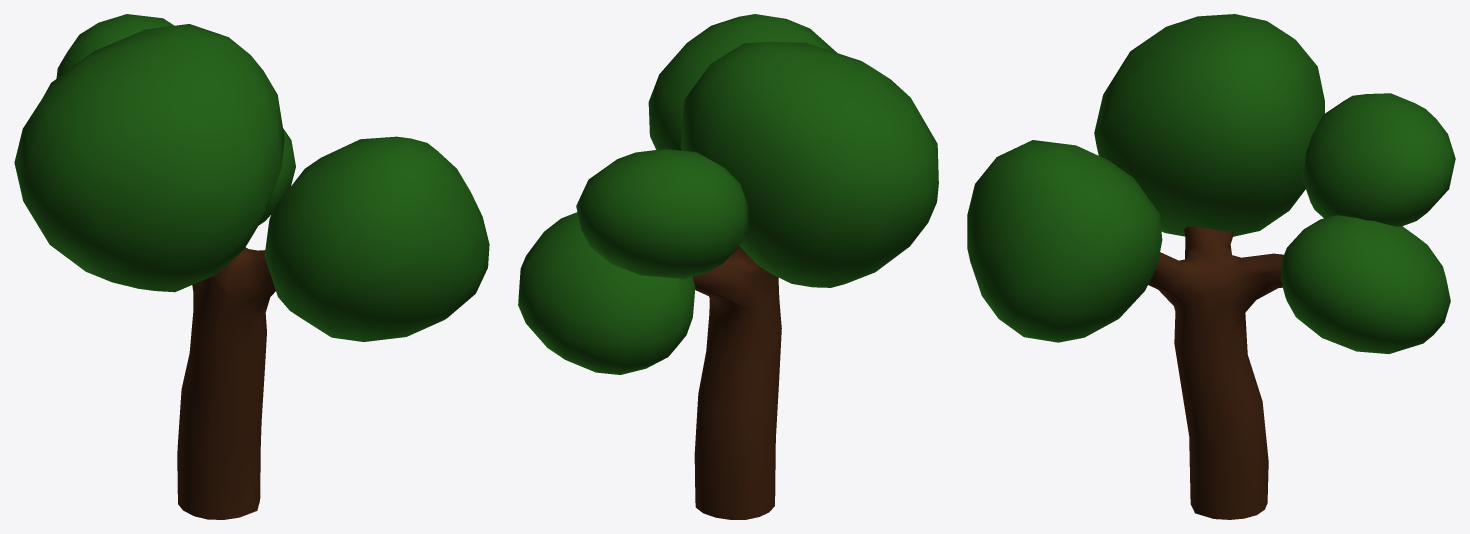
Rendered from Tree3.fbx.
3 views of the same model, side by side, from view 1: azimuth 30°, elevation 25°; view 2: azimuth 150°, elevation 25°; view 3: azimuth 270°, elevation 25° (orthographic). The views are drawn at different scales.
Parts seen in each view (by area): view 1: Sphere.008, Sphere.005, Trunk3, Sphere.009, Sphere.010; view 2: Sphere.008, Trunk3, Sphere.010, Sphere.009, Sphere.005; view 3: Sphere.008, Sphere.005, Trunk3, Sphere.010, Sphere.009.
Part boxes in pixels (box(x1,y1,x2,y2)): Sphere.008: box(14, 24, 284, 292); Sphere.005: box(264, 136, 489, 341); Trunk3: box(177, 247, 275, 519); Sphere.009: box(56, 14, 174, 78); Sphere.010: box(258, 128, 295, 225); Sphere.008: box(680, 41, 938, 287); Trunk3: box(693, 246, 781, 519); Sphere.010: box(518, 212, 695, 374); Sphere.009: box(576, 149, 748, 278); Sphere.005: box(648, 14, 836, 150); Sphere.008: box(1094, 14, 1324, 236); Sphere.005: box(967, 140, 1162, 342); Trunk3: box(1148, 226, 1283, 519); Sphere.010: box(1280, 215, 1450, 353); Sphere.009: box(1302, 93, 1455, 226).
Size of the model in its own units: 324 by 408 by 400.
